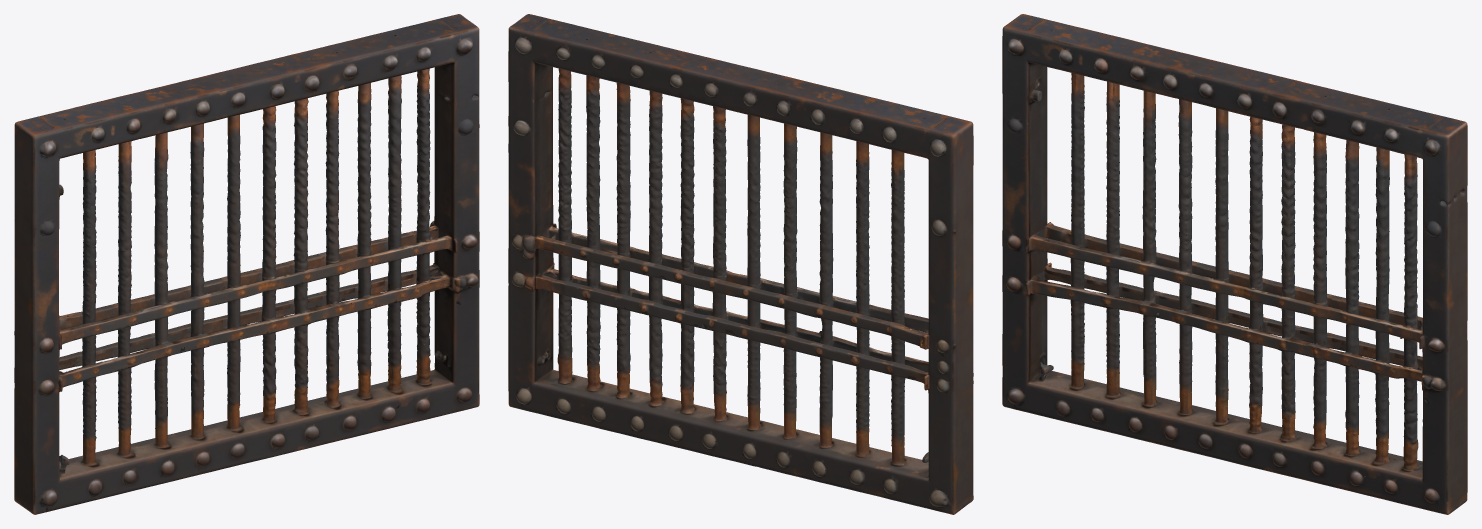
The model's file is _Old_iron_jail_bars__0723231308_texture.fbx.
3 renders of one model, left to right at view 1: azimuth 30°, elevation 25°; view 2: azimuth 150°, elevation 25°; view 3: azimuth 330°, elevation 25°, orthographic.
Visible parts, largest first — view 1: input; view 2: input; view 3: input.
Boxes of the visible parts, x1,y1,x2,y2 form: input: (14,14,479,514); input: (508,14,973,514); input: (1002,14,1467,514).
Size of the model in its own units: 200 by 163 by 22.59.
Materials: 1 (1 with a texture image).
